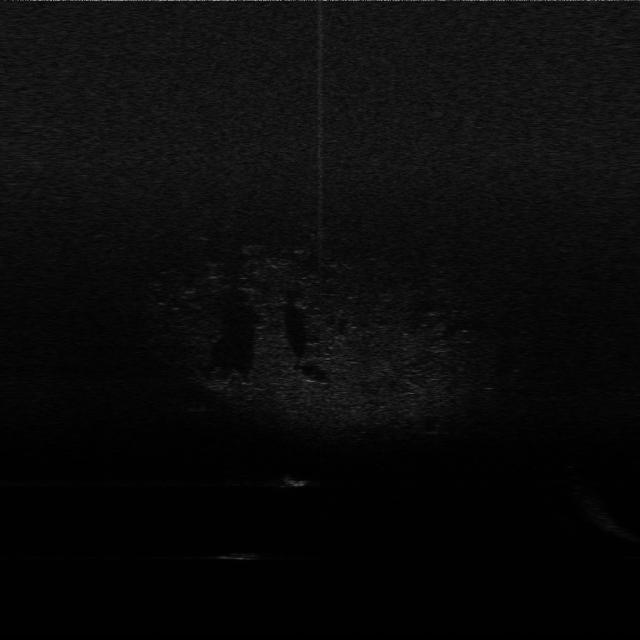cube: (212, 540, 262, 565)
square cage: (286, 469, 310, 489)
